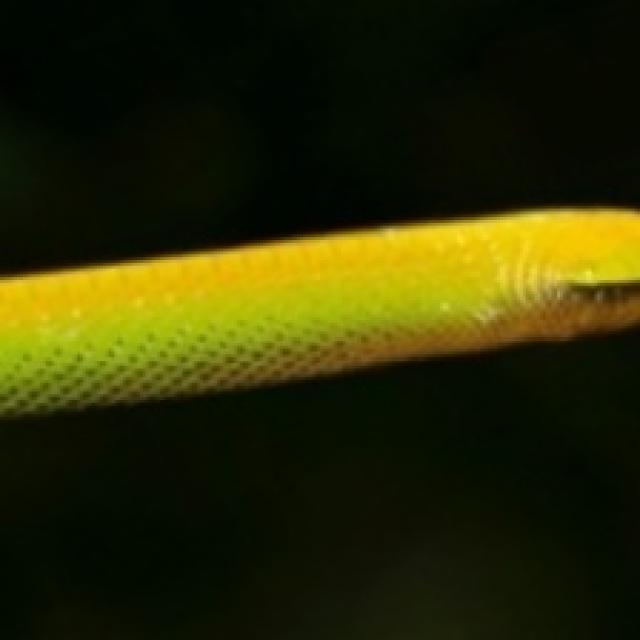red-tailed green ratsnake: (0, 209, 637, 414)
